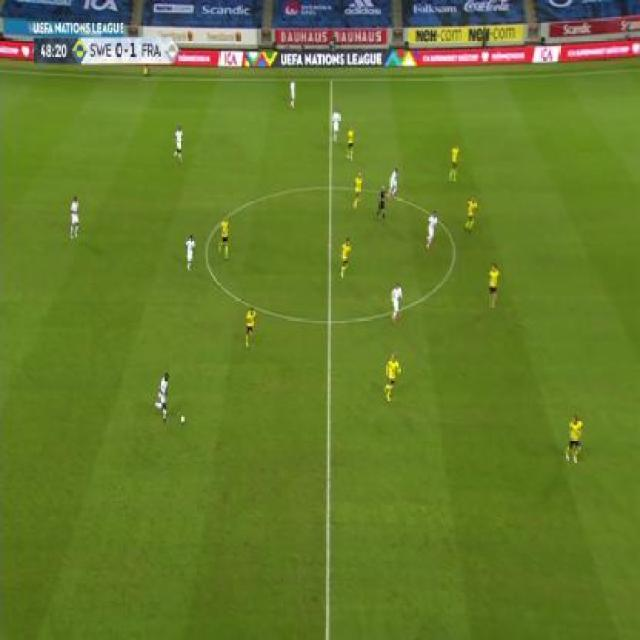ball: (180, 413, 186, 424)
player: (563, 412, 585, 466), (152, 369, 171, 423), (383, 350, 402, 404), (337, 235, 353, 280), (389, 279, 405, 324), (424, 208, 440, 251), (486, 262, 500, 311), (463, 192, 479, 234), (218, 213, 232, 259), (243, 303, 257, 348), (68, 193, 81, 239), (447, 141, 461, 183), (171, 124, 184, 164), (184, 233, 197, 273), (351, 171, 364, 210), (375, 183, 388, 222), (387, 166, 400, 199), (330, 106, 341, 140), (346, 123, 355, 162), (288, 77, 297, 110)
